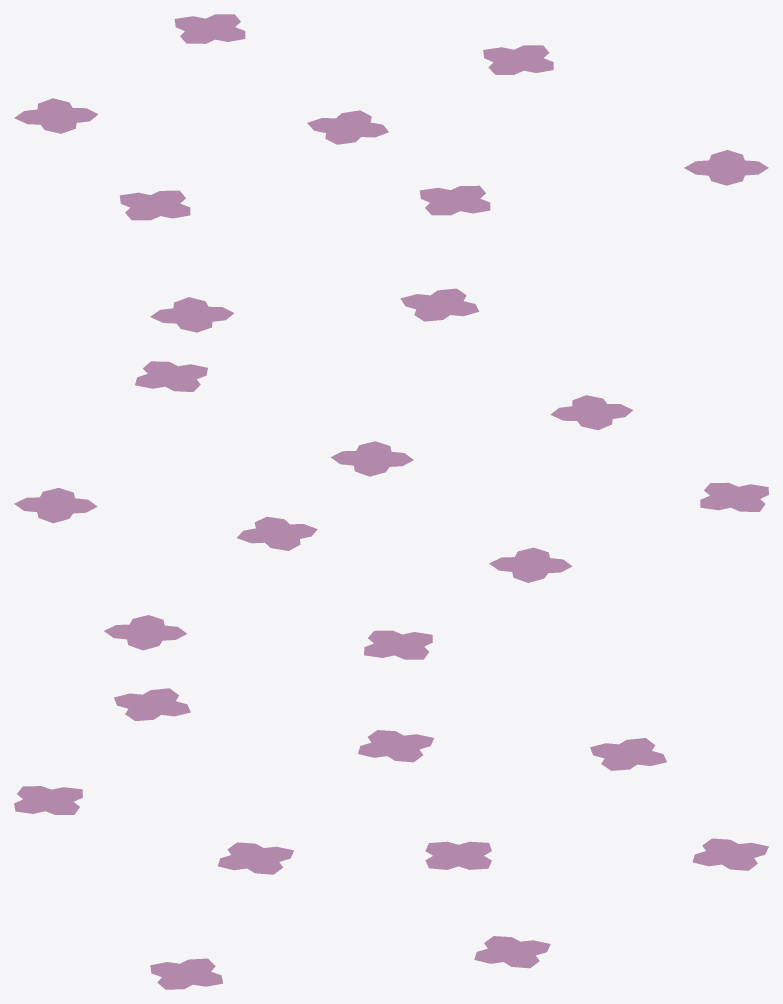
Rendered from PinkFlowers.fbx.
3 renders of one model, top to bottom at view 1: azimuth 30°, elevation 25°; view 2: azimuth 150°, elevation 25°; view 3: azimuth 270°, elevation 25°, orthographic.
Parts seen in each view (by area): view 1: PinkFlowers; view 2: PinkFlowers; view 3: PinkFlowers.
Part boxes in pixels (box(x1,y1,x2,y2)): PinkFlowers: box(14, 14, 768, 332); PinkFlowers: box(14, 361, 768, 659); PinkFlowers: box(14, 688, 768, 989).
Bounding box in the file's own units: 10.7 × 0 × 11.32.
